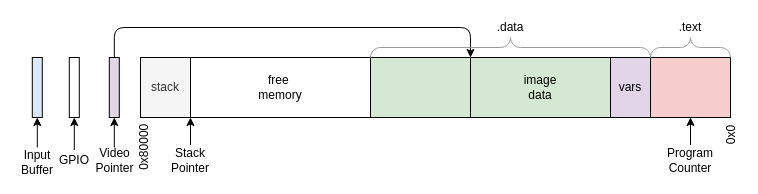
The diagram is 758 pixels wide and 194 high, and some of its shapes have lost their labels. Here are the shapes that lost their labels. From the top down, the centre of each, then its label:
At (x=420, y=87): "frame".
At (x=690, y=87): "instructions".
